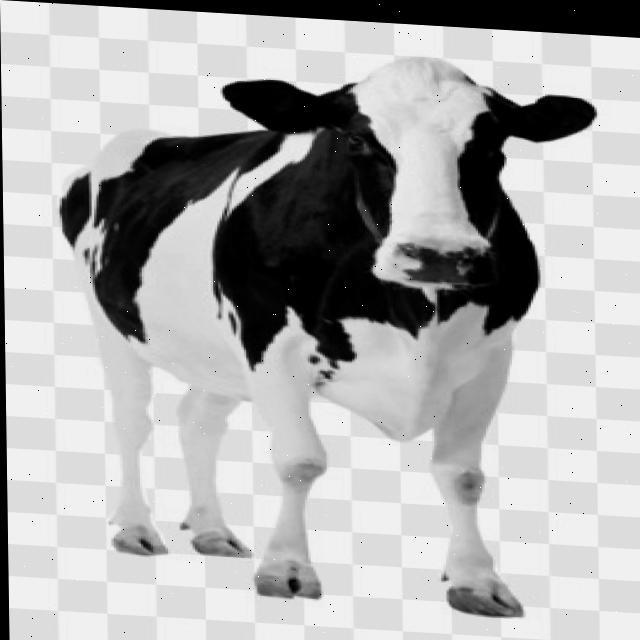Cow: (55, 33, 604, 624)
